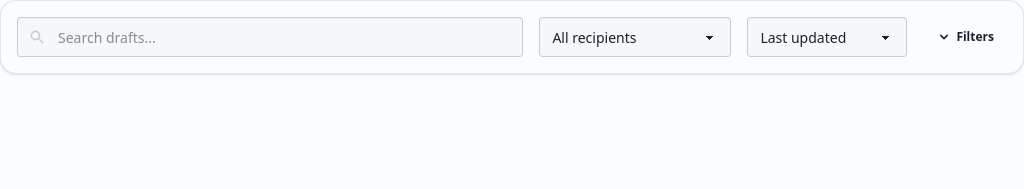
Scenario: FilterPanel Component › Advanced filters toggle › should show date range picker when clicking Filters
The image size is (1024, 189).
# Click the Filters button
Click the button "Filters" at [965, 37], box top-left (923, 21), bottom-right (1007, 53)
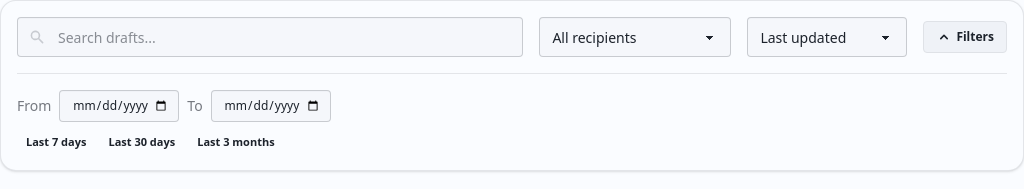
Expected: the button "Last 7 days" is shown, top-left (17, 130), bottom-right (96, 154)
